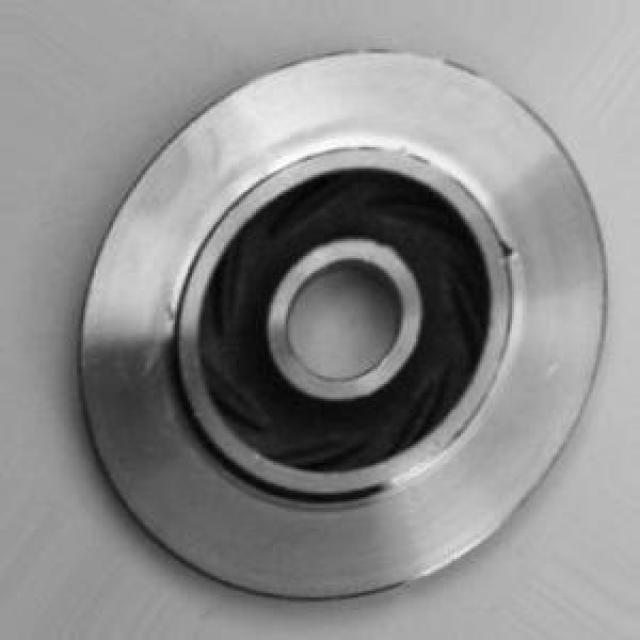Defect: (486, 229, 516, 269)
